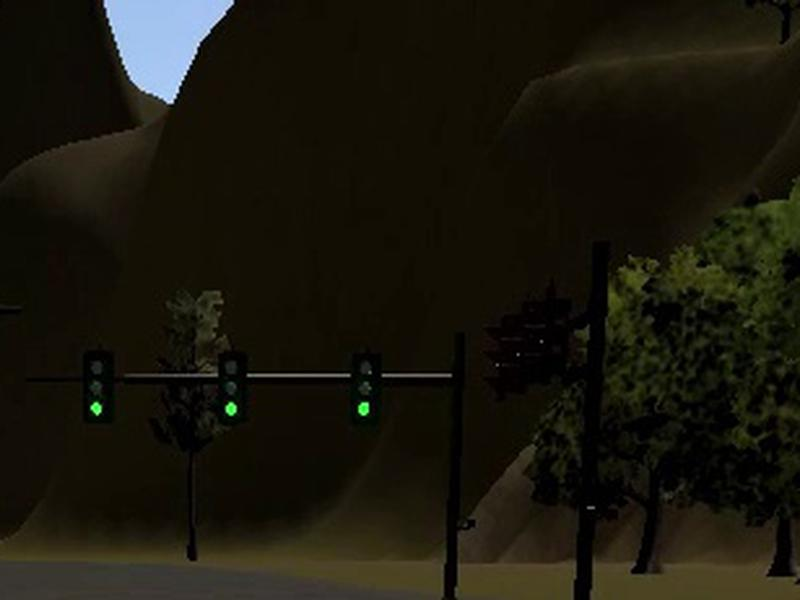Green: (83, 349, 115, 423), (218, 350, 248, 424), (352, 354, 382, 424)
